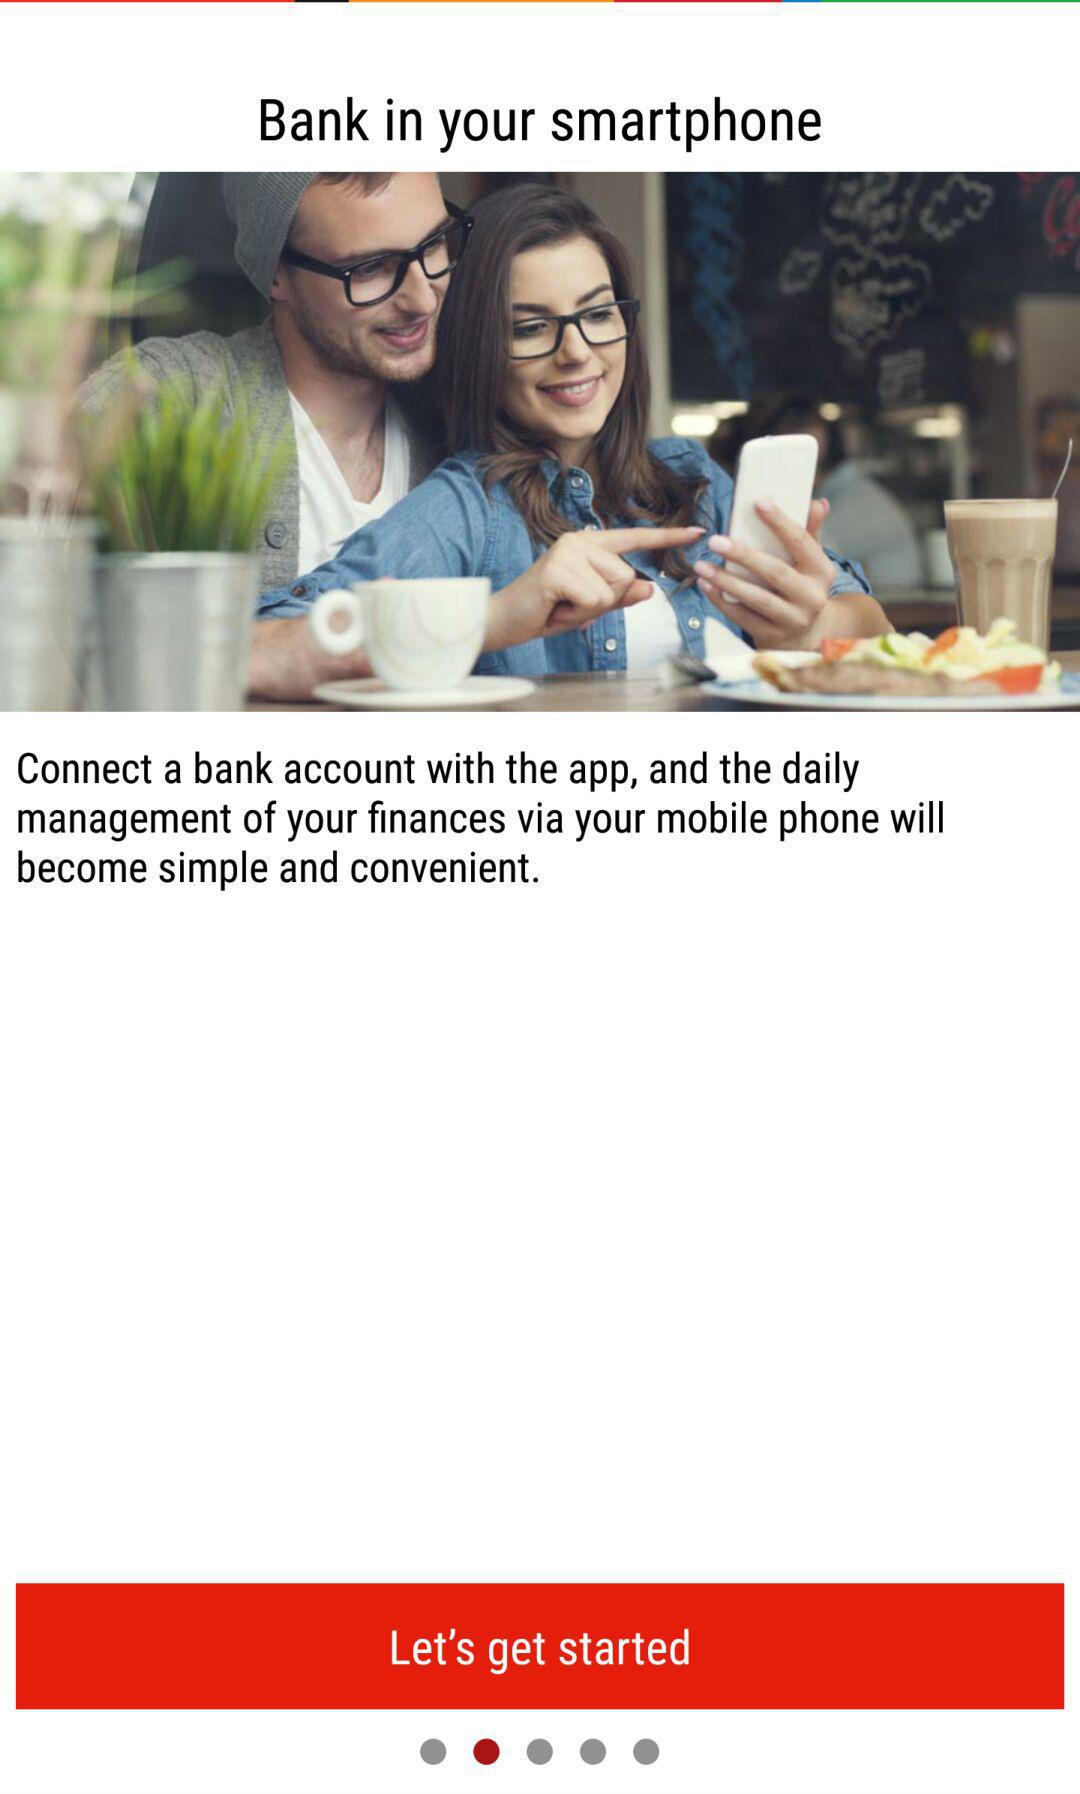Image: (1, 172, 1080, 712)
PageIndicator: (418, 1735, 662, 1768)
Text: (15, 750, 945, 894), (260, 94, 824, 156)
TextButton: (15, 1583, 1066, 1711)
